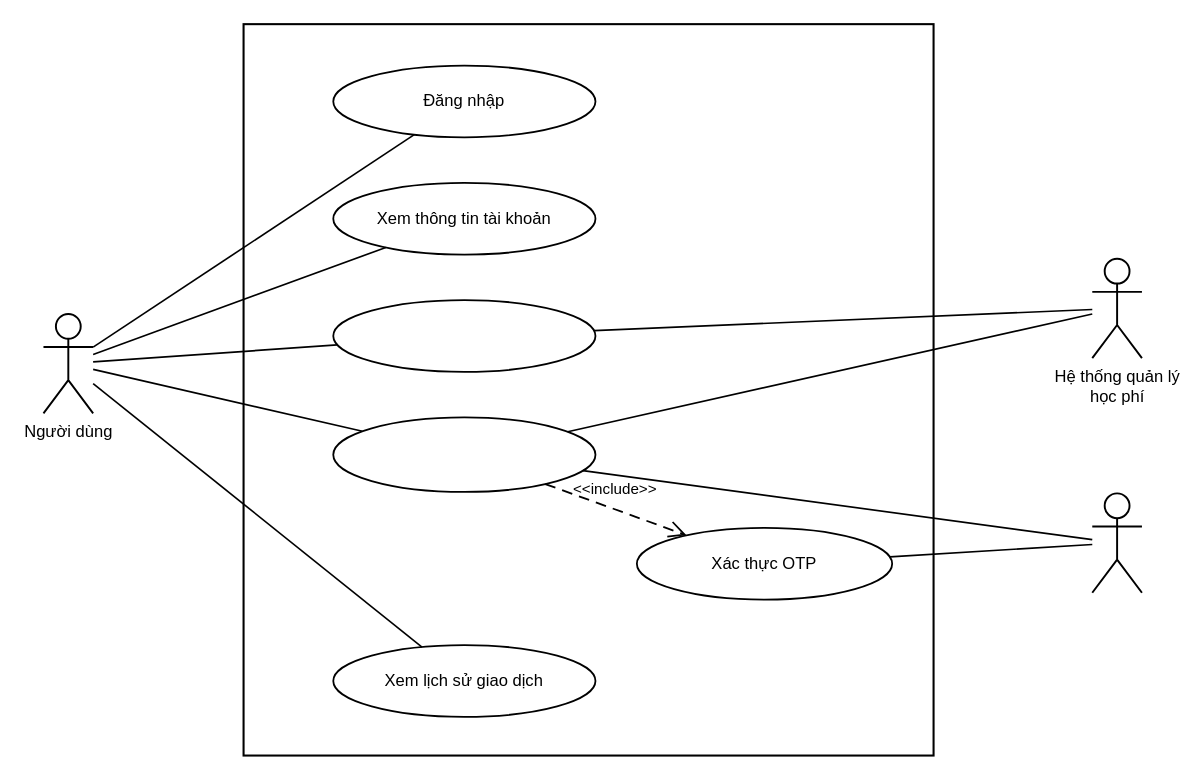
Image size: 1203x781. Some labels were removed from this diagram. Each missing label, with the centre of its shape:
Hệ thống Email: the point at 1116,542
Thanh toán học phí: the point at 464,454
Tra cứu học phí: the point at 464,335
